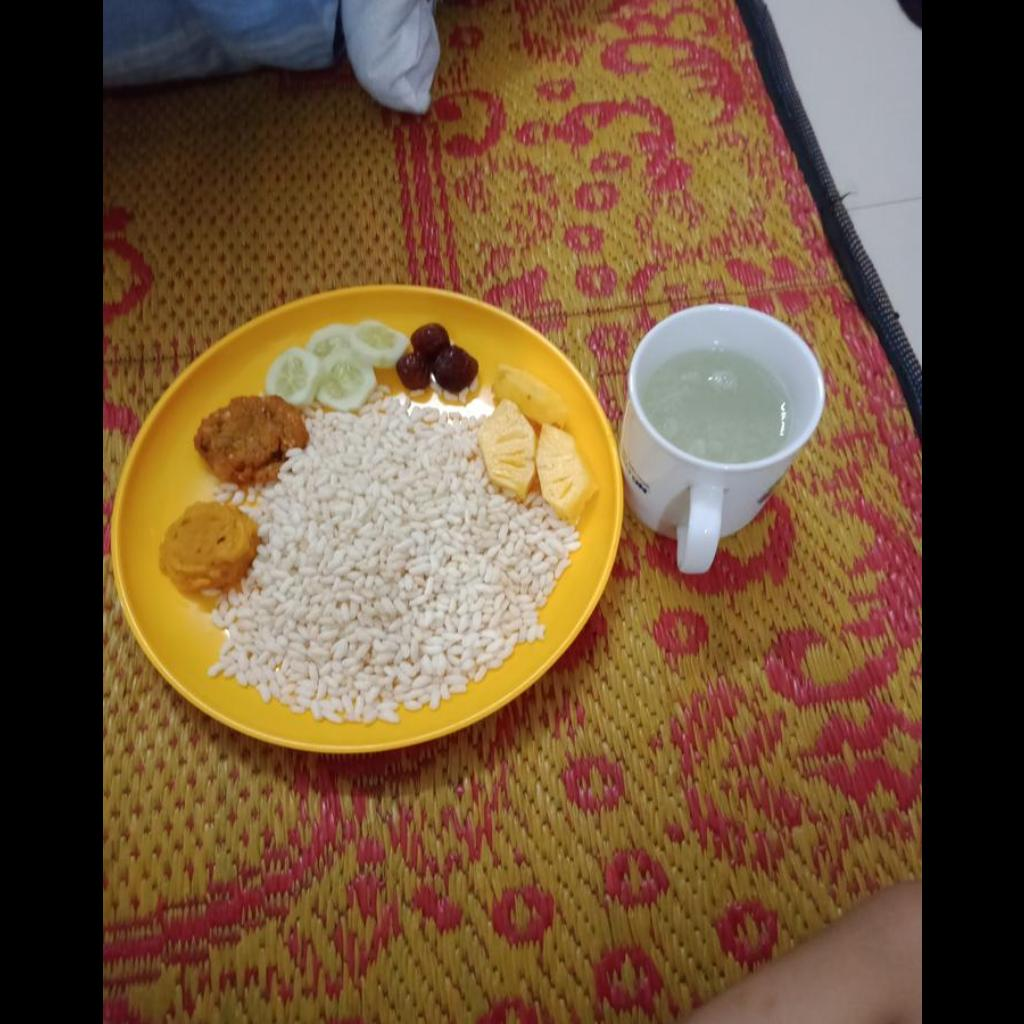chop-alu: (162, 504, 253, 591)
cucumber: (269, 318, 398, 404)
dates: (401, 327, 477, 401)
peyaju: (190, 397, 305, 476)
pineapple: (477, 370, 592, 513)
puffed-rice: (213, 410, 580, 717)
